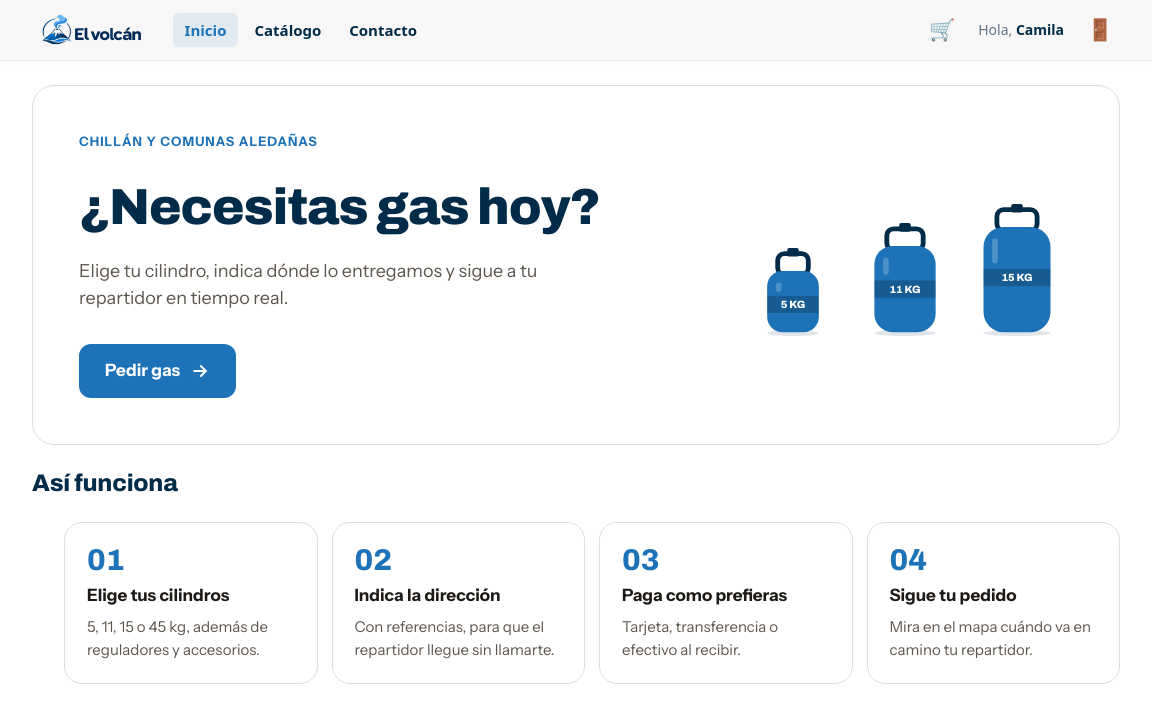
it: App - autenticación › cerrar sesión vuelve al login y ya no deja entrar
Click the button named "Cerrar sesión": (1100, 30) [1080, 8, 1120, 52]
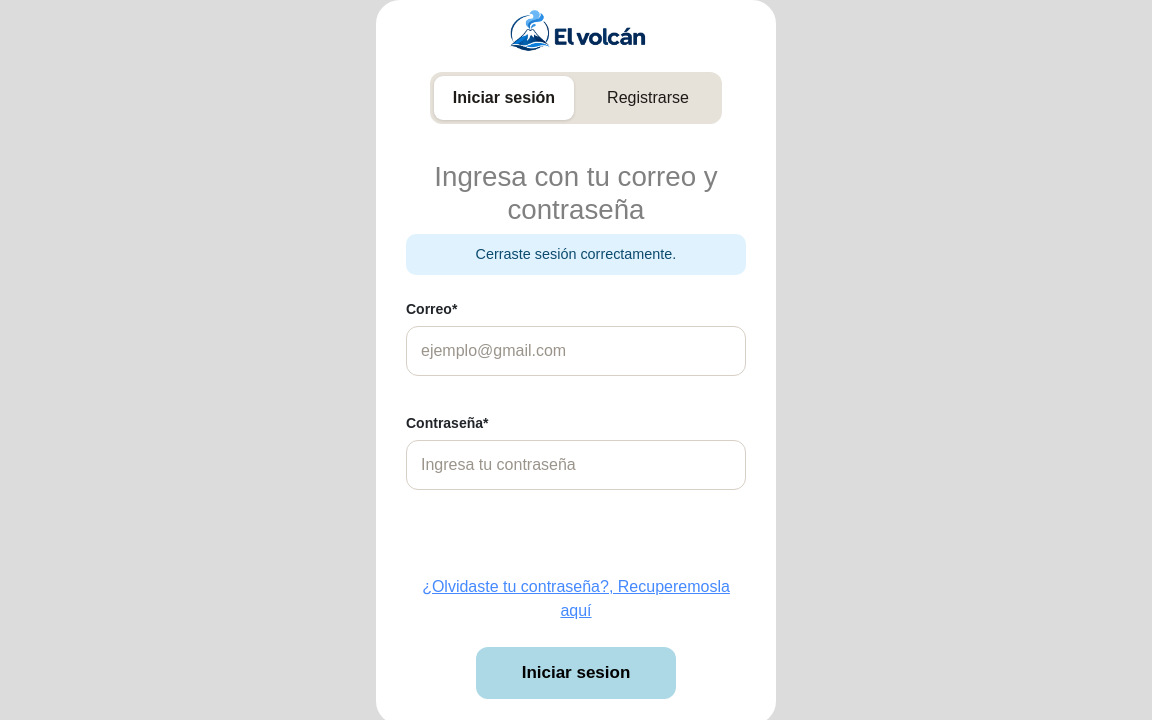
Expected: the text "Cerraste sesión correctamente." is shown, [406, 234, 746, 275]
